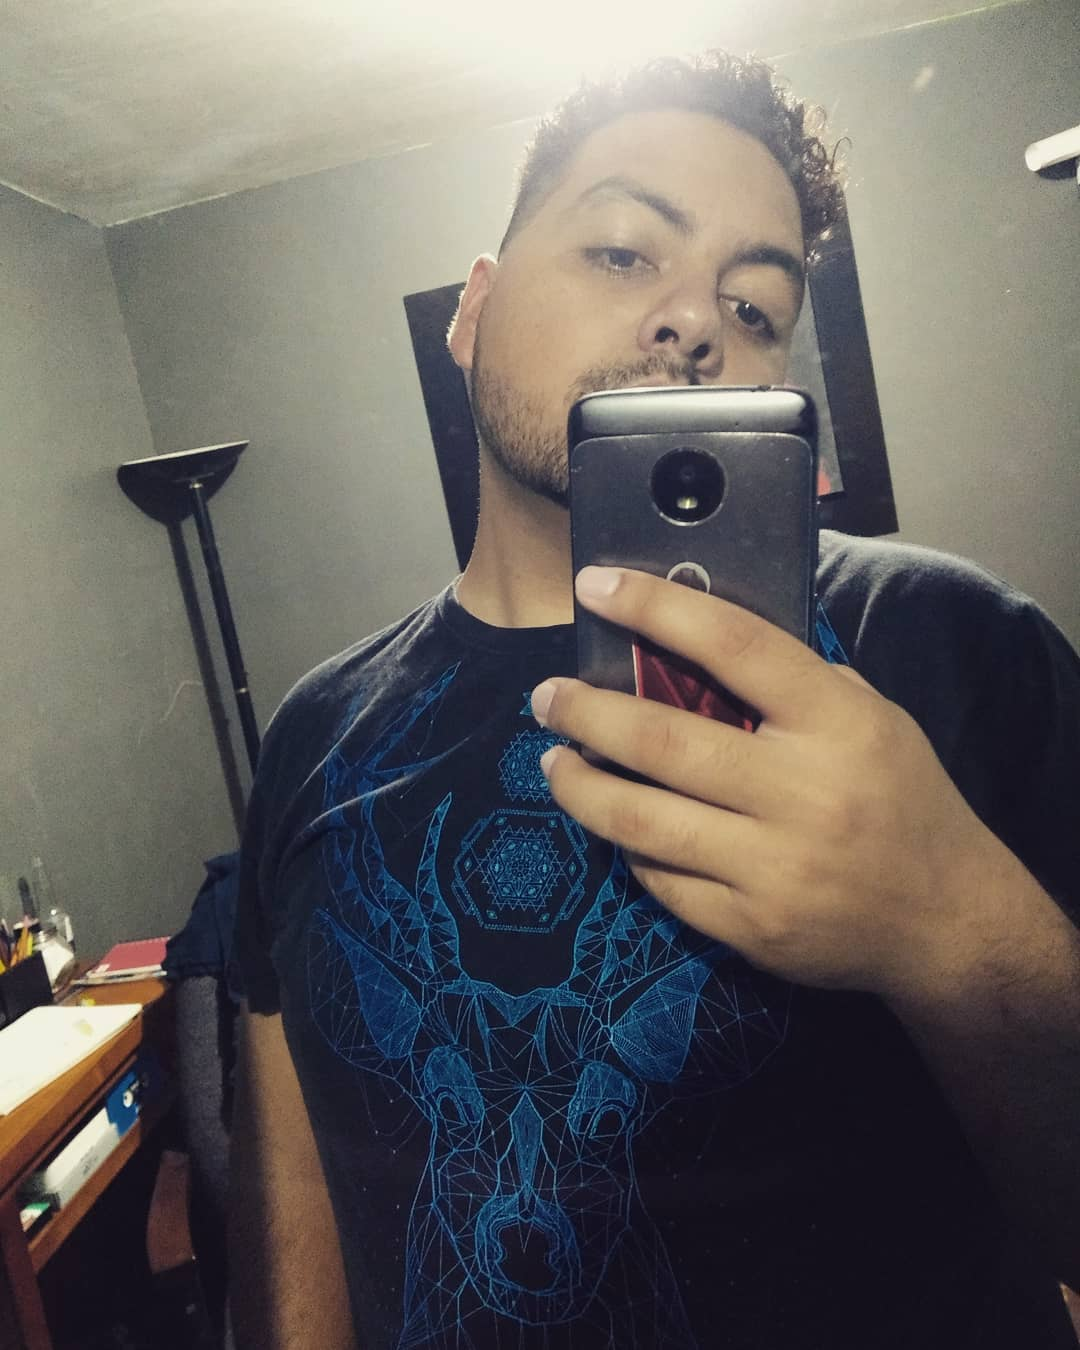Yoshi: (276, 30, 951, 936)
